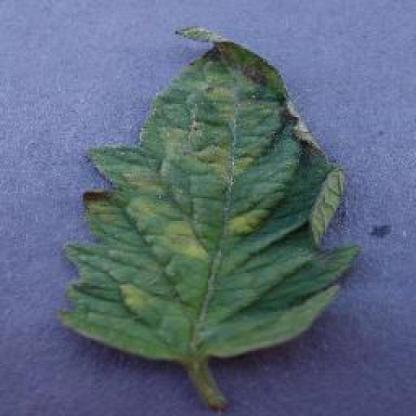Tomato_Leaf_Mold: (61, 28, 358, 360)
